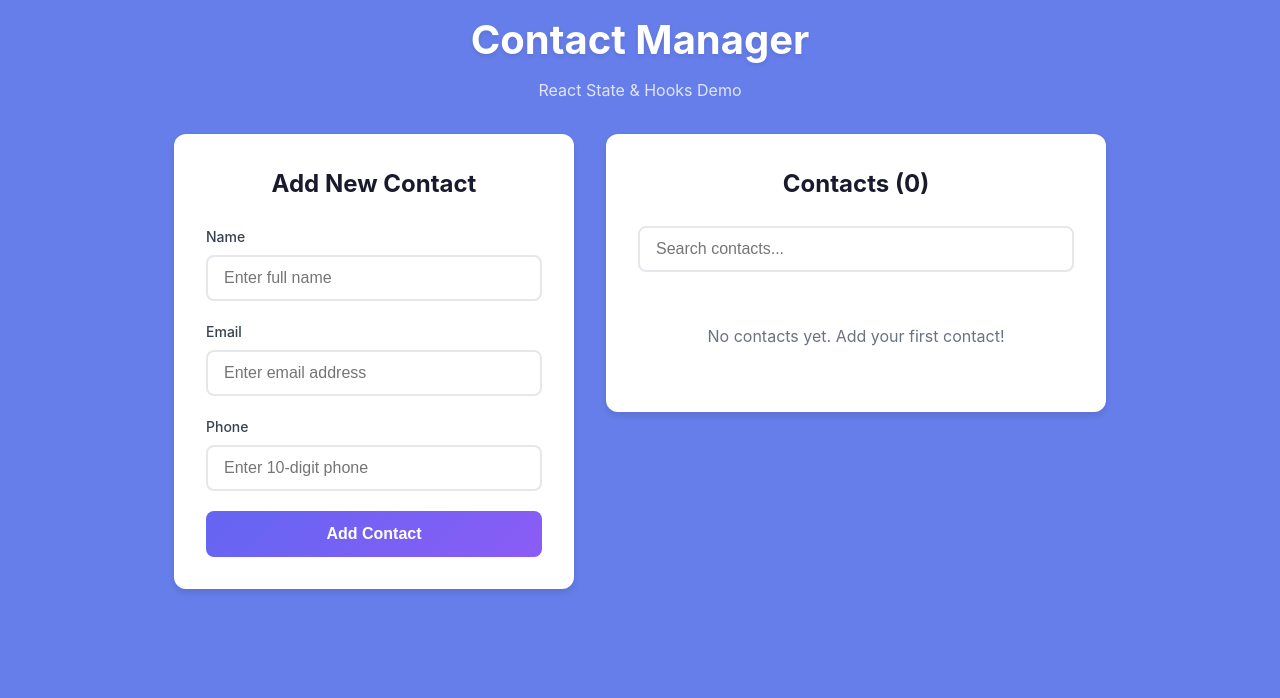
Test: App › shows clear all button when contacts exist
Type "Test User" into the field labelled "Name" at {"x": 374, "y": 278}, box [206,255,542,301]
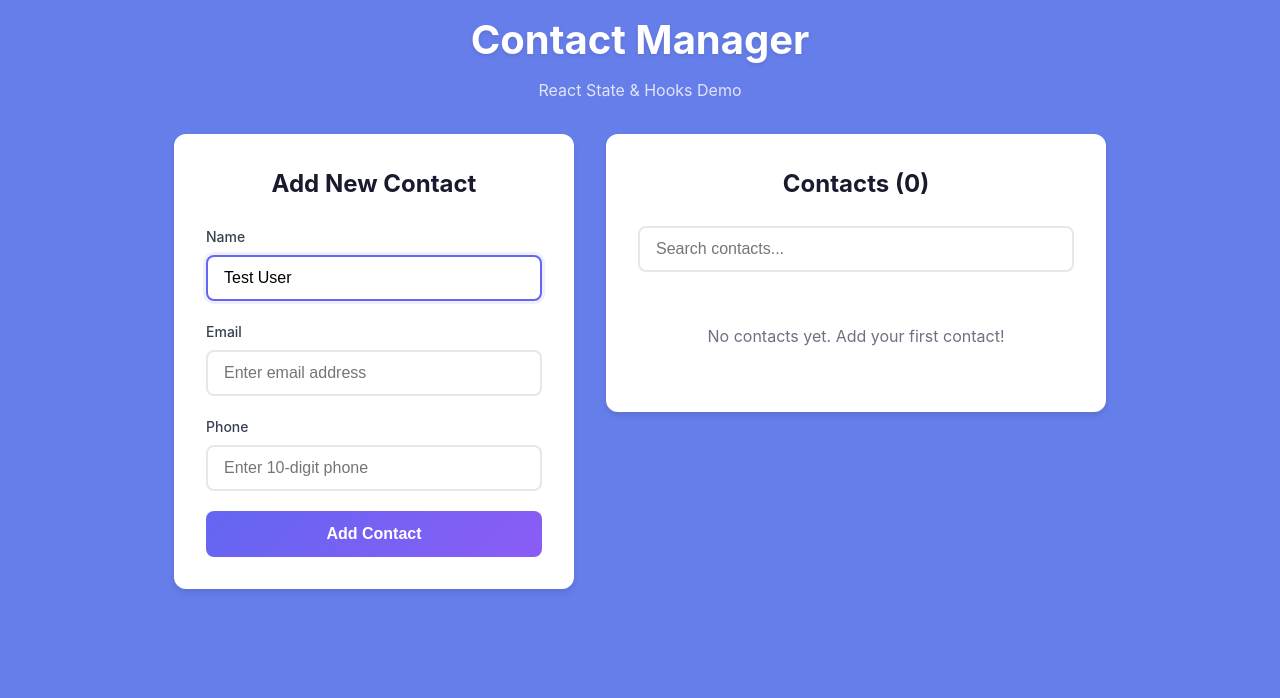
Type "test@example.com" into the field labelled "Email" at {"x": 374, "y": 373}, box [206,350,542,396]
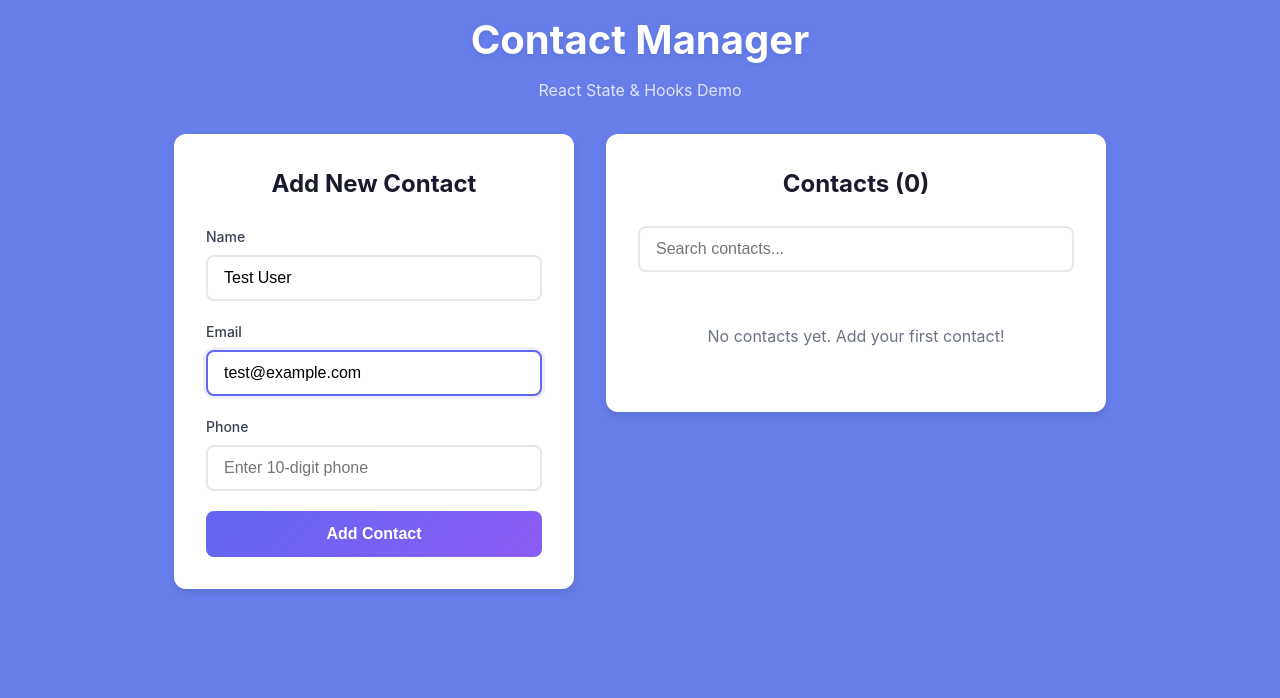
Type "1234567890" into the field labelled "Phone" at {"x": 374, "y": 468}, box [206,445,542,491]
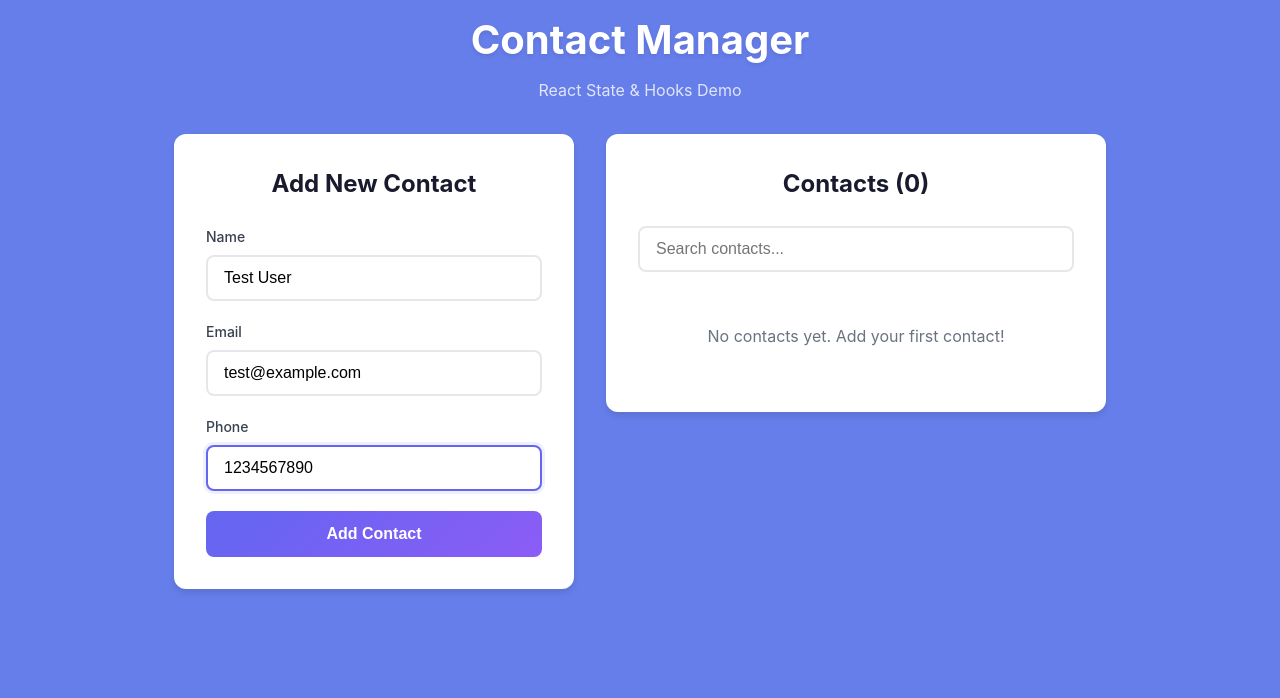
Click the button "Add Contact" at {"x": 374, "y": 534}, box [206,511,542,557]
(page scrolled)
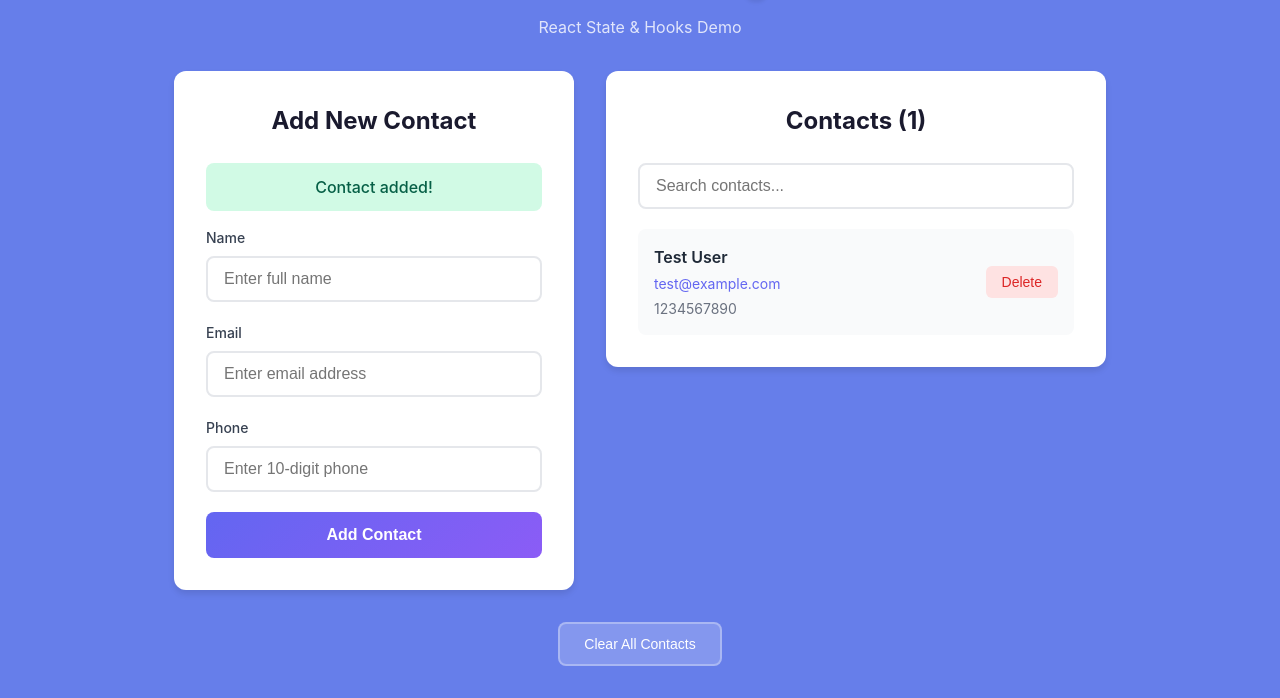
Expected: the button "Clear All Contacts" is shown, [558,622,722,666]
